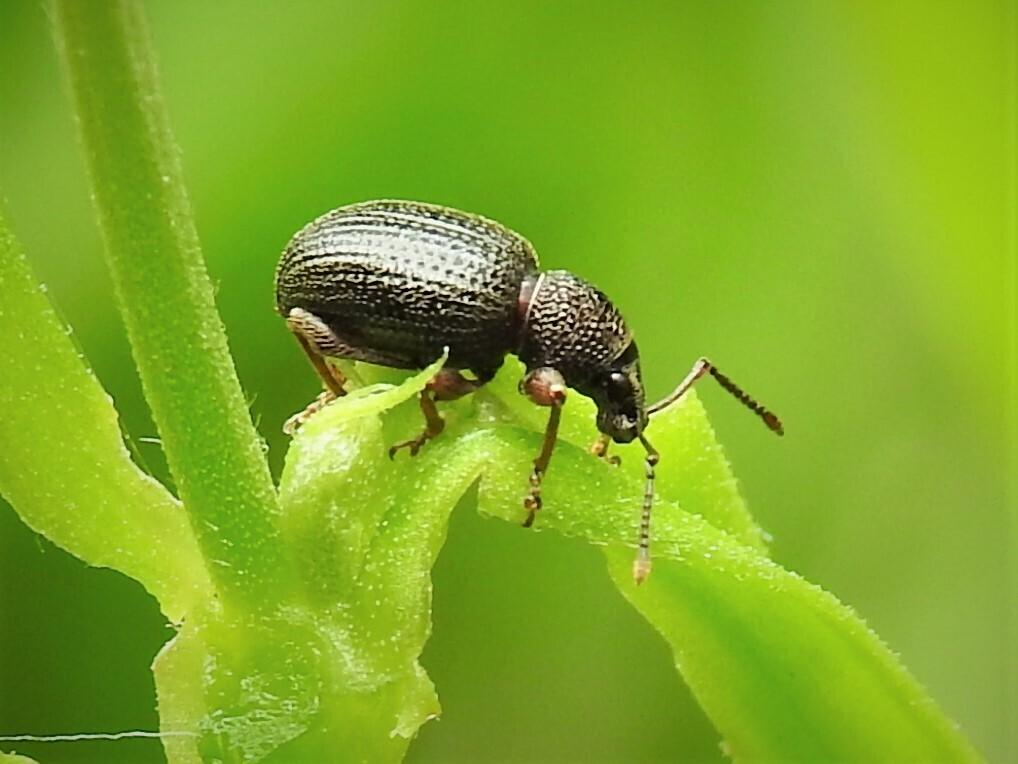weevils: (197, 114, 853, 627)
